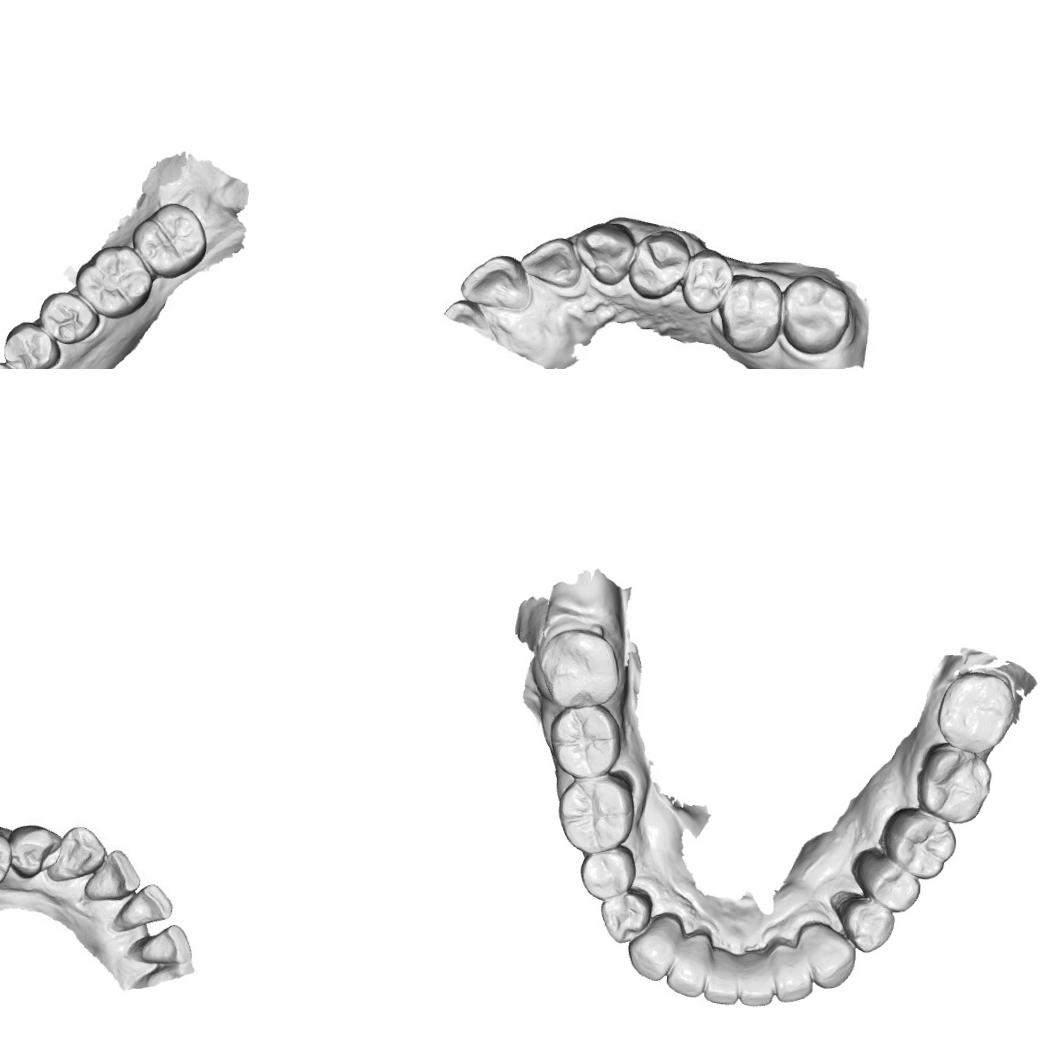canine: (575, 221, 636, 292), (798, 922, 858, 990), (626, 914, 682, 983), (52, 824, 103, 884)
incisor: (458, 252, 530, 310), (664, 932, 711, 999), (520, 234, 578, 288), (773, 944, 814, 1004), (87, 854, 133, 902), (738, 950, 775, 1008), (119, 884, 167, 928), (703, 949, 740, 1006), (141, 927, 187, 962)
molar: (538, 627, 622, 710), (936, 670, 1018, 755), (72, 241, 158, 322), (555, 774, 636, 856), (130, 198, 210, 280), (916, 742, 994, 825), (778, 271, 850, 358), (881, 806, 958, 881), (548, 702, 622, 780), (717, 274, 780, 354)
premolar: (853, 850, 922, 914), (625, 231, 688, 300), (832, 889, 895, 954), (34, 290, 100, 346), (680, 248, 734, 316), (578, 842, 637, 902), (0, 317, 63, 369), (598, 890, 654, 946), (8, 823, 60, 881)
